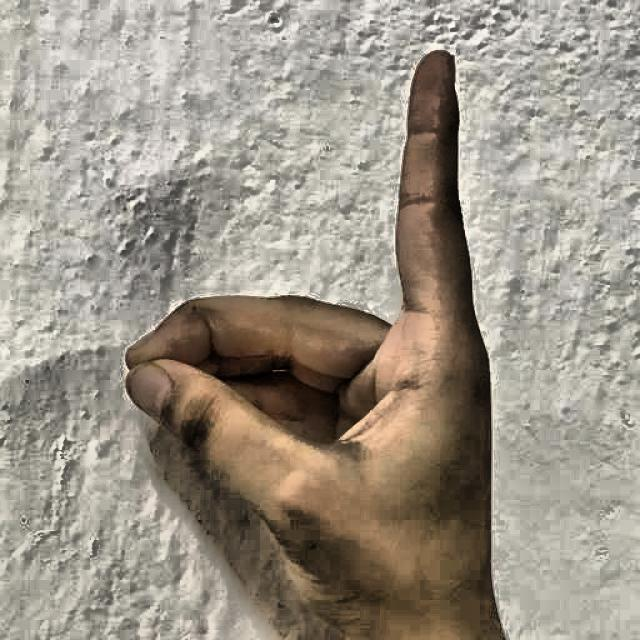Dha: (96, 32, 536, 640)
